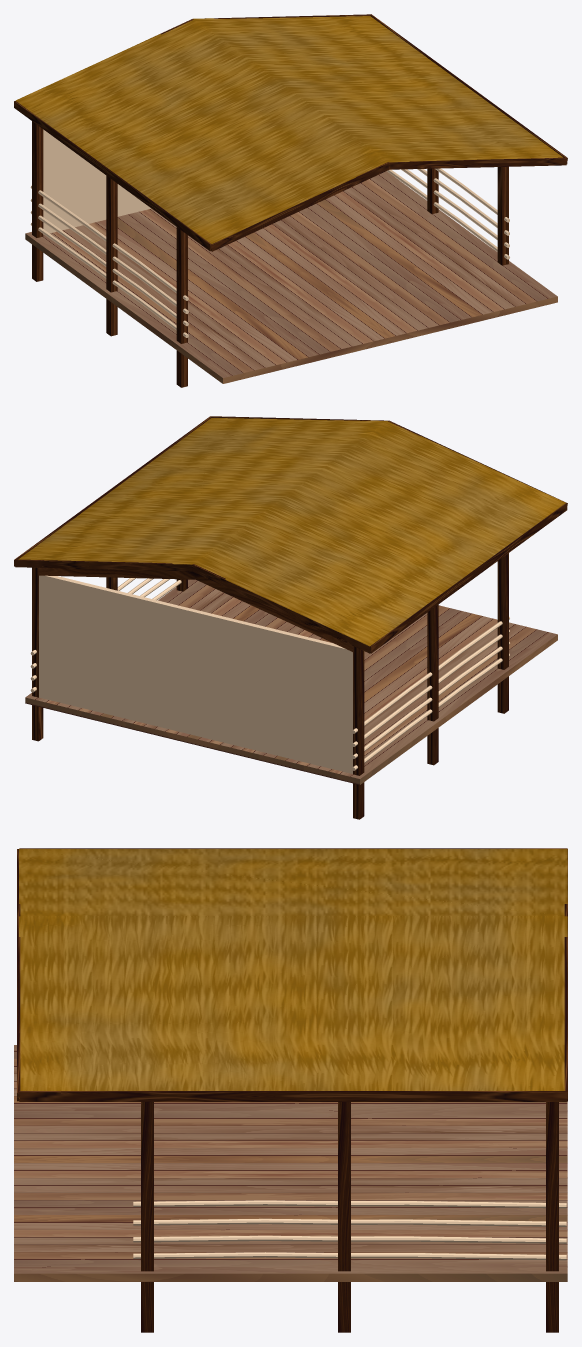
Rendered from Gear_Hut.fbx.
The picture shows the model from 3 angles, top to bottom: view 1: azimuth 30°, elevation 25°; view 2: azimuth 150°, elevation 25°; view 3: azimuth 270°, elevation 25°; orthographic projection. The views are drawn at different scales.
Parts seen in each view (by area): view 1: Gear_Hut; view 2: Gear_Hut; view 3: Gear_Hut.
Boxes of the visible parts, box(x1,y1,x2,y2) form: Gear_Hut: box(14, 14, 567, 387); Gear_Hut: box(14, 416, 567, 819); Gear_Hut: box(14, 848, 567, 1332).
Size of the model in its own units: 6.26 by 3.64 by 6.
Materials: 4 (4 with a texture image).
